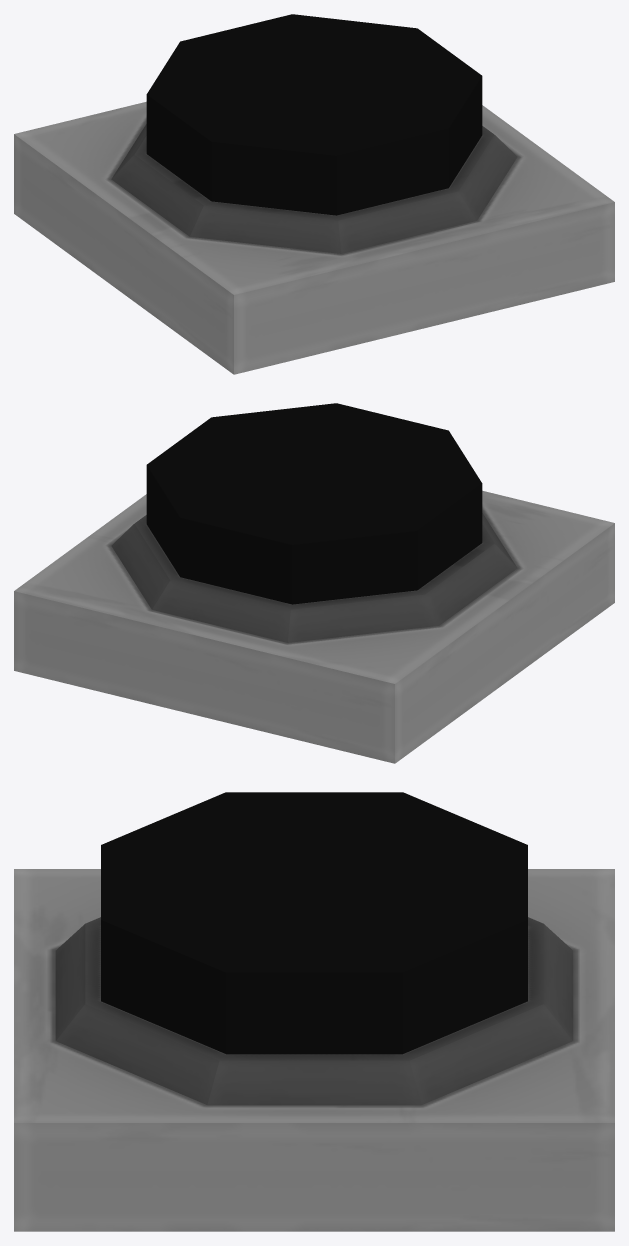
File: obj_interactive_button_off.glb
3 renders of one model, top to bottom at view 1: azimuth 30°, elevation 25°; view 2: azimuth 150°, elevation 25°; view 3: azimuth 270°, elevation 25°, orthographic. The views are drawn at different scales.
Visible parts, largest first — view 1: tmp; view 2: tmp; view 3: tmp.
Boxes of the visible parts, box(x1,y1,x2,y2) form: tmp: box(14, 14, 614, 374); tmp: box(14, 403, 614, 763); tmp: box(14, 792, 614, 1231).
Size of the model in its own units: 1 by 0.4081 by 1.
1 material, 1 textured.
